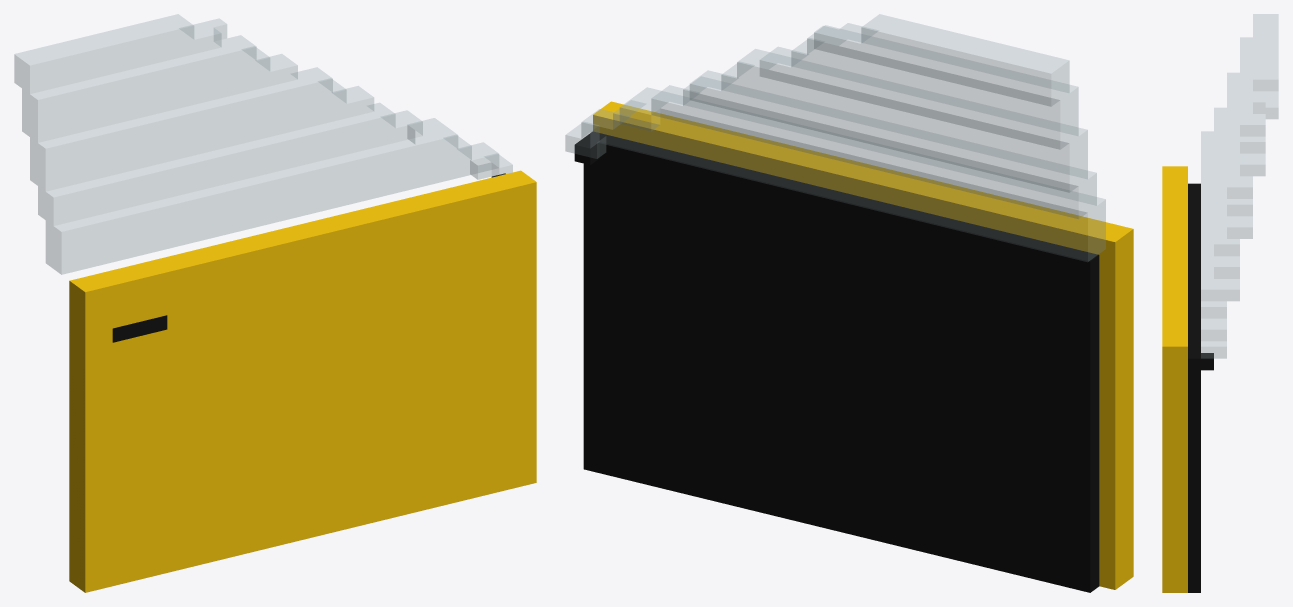
Rendered from taxi_front_door.glb.
3 views of the same model, side by side, from view 1: azimuth 30°, elevation 25°; view 2: azimuth 150°, elevation 25°; view 3: azimuth 270°, elevation 25° (orthographic). The views are drawn at different scales.
Parts seen in each view (by area): view 1: body:compound; view 2: body:compound; view 3: body:compound.
Boxes of the visible parts, box(x1,y1,x2,y2) form: body:compound: box(14, 14, 536, 592); body:compound: box(565, 14, 1133, 592); body:compound: box(1162, 14, 1278, 592).
Bounding box in the file's own units: 1.03 × 1.06 × 0.2812.
